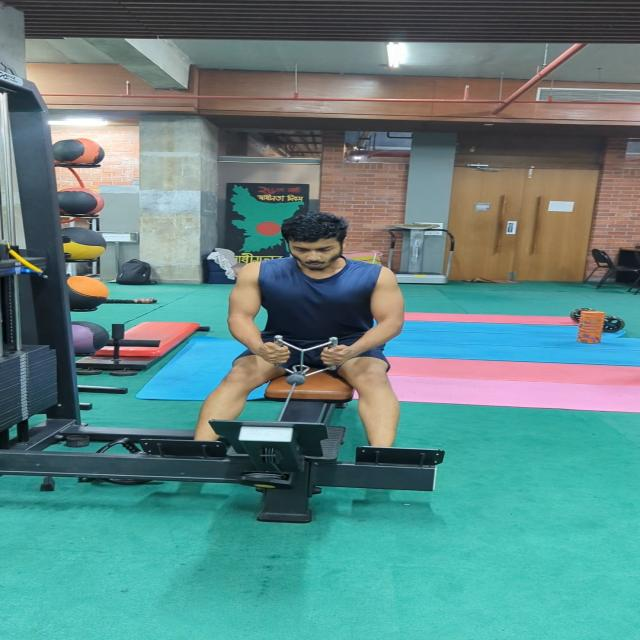Normal_RowingMachineExercise: (187, 210, 408, 458)
